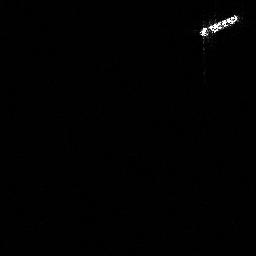ship: (195, 11, 243, 40)
